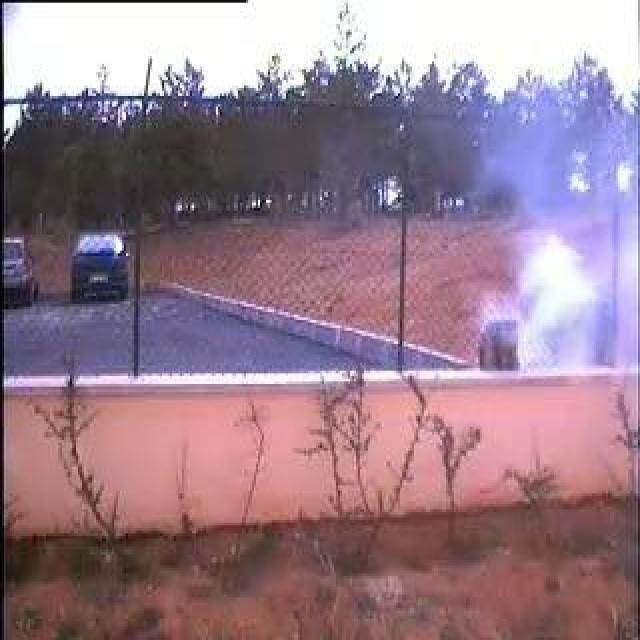Smoke: (449, 115, 633, 357)
